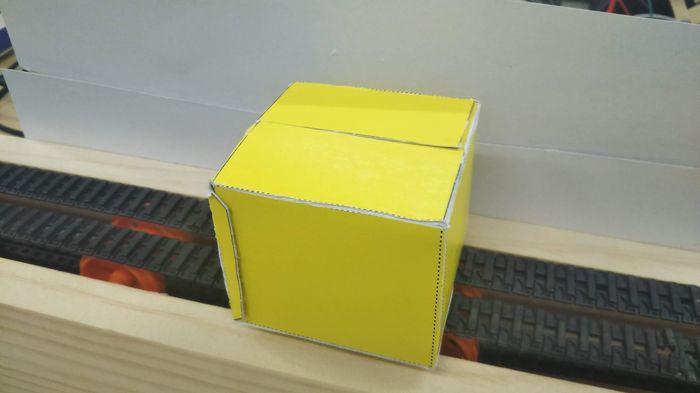box4: (202, 77, 484, 371)
